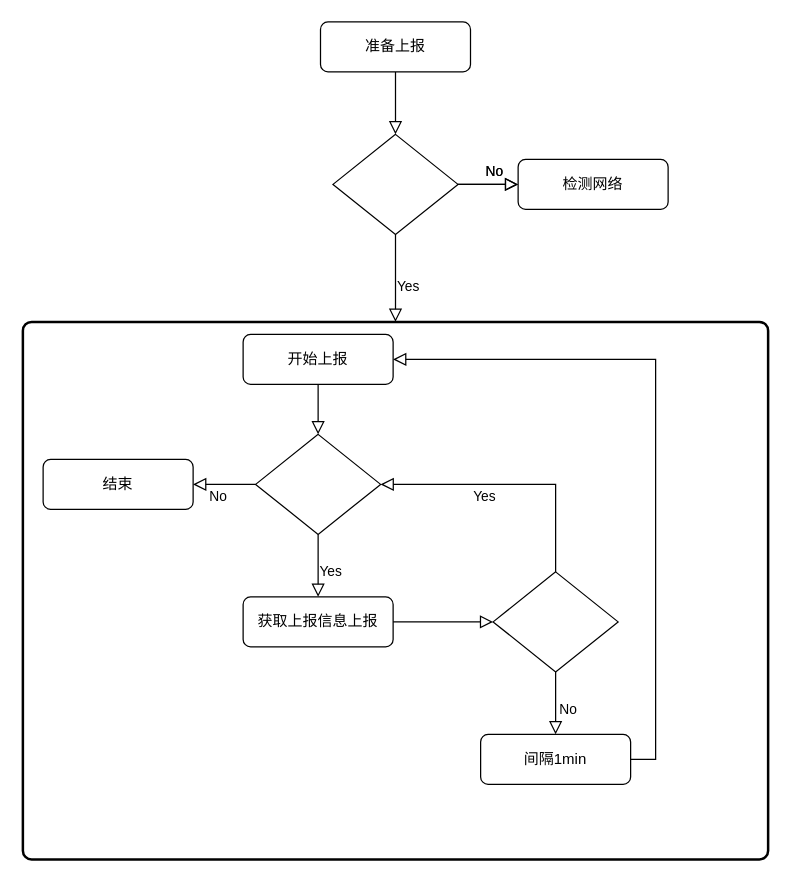
Image size: 791x883. Some labels were removed from this diagram. Each missing label, with the centre of its shape:
"上报成功" goes at point 555,621.
"是否有网络（WIFI/4G）" goes at point 395,183.
"是否有需要上报记录" goes at point 317,483.
